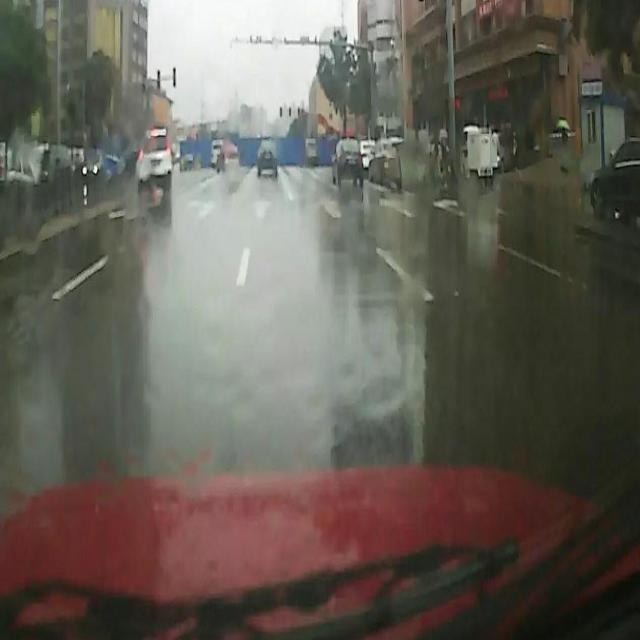car: (136, 128, 174, 188), (368, 138, 402, 193), (329, 136, 366, 186), (256, 136, 277, 176), (180, 151, 192, 171)
